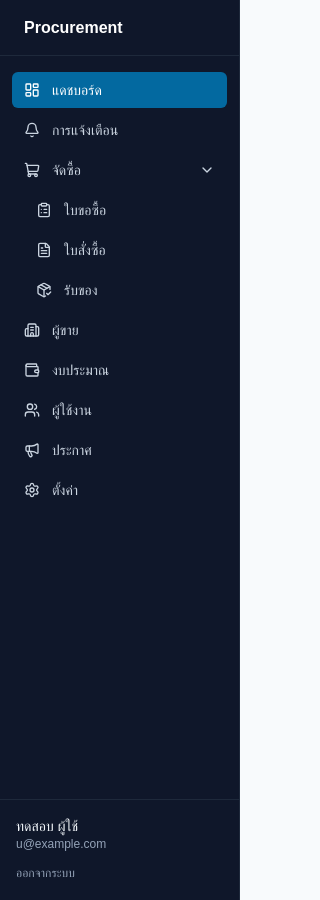
Scenario: Sidebar nav — group toggle, a11y and persistence › collapses the group on click, hiding its children and flipping aria-expanded
Check: the link "ใบสั่งซื้อ" is shown, box x1=36 y1=242 x2=106 y2=258
Click the button "จัดซื้อ" at x=120, y=170, box x1=12 y1=152 x2=227 y2=188
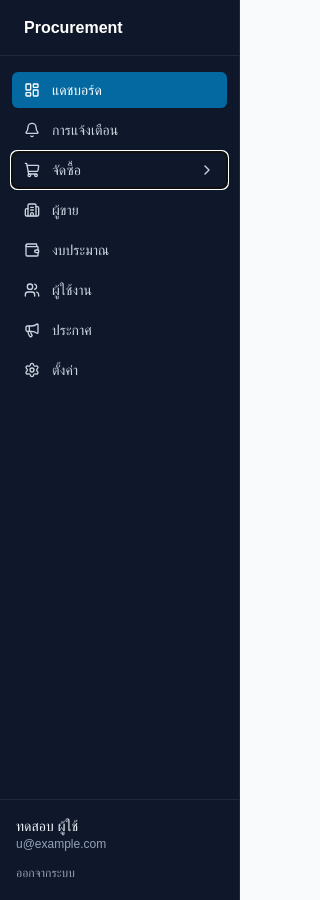
Check: the button "จัดซื้อ" is collapsed, box x1=12 y1=152 x2=227 y2=188
Check: the link "ใบสั่งซื้อ" is gone
